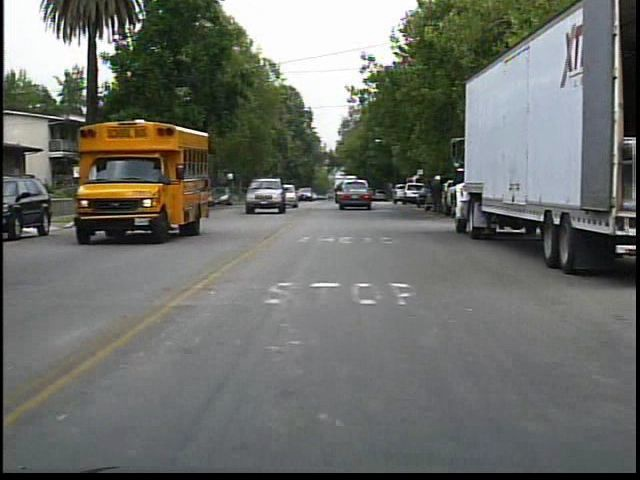person: (424, 171, 447, 219)
